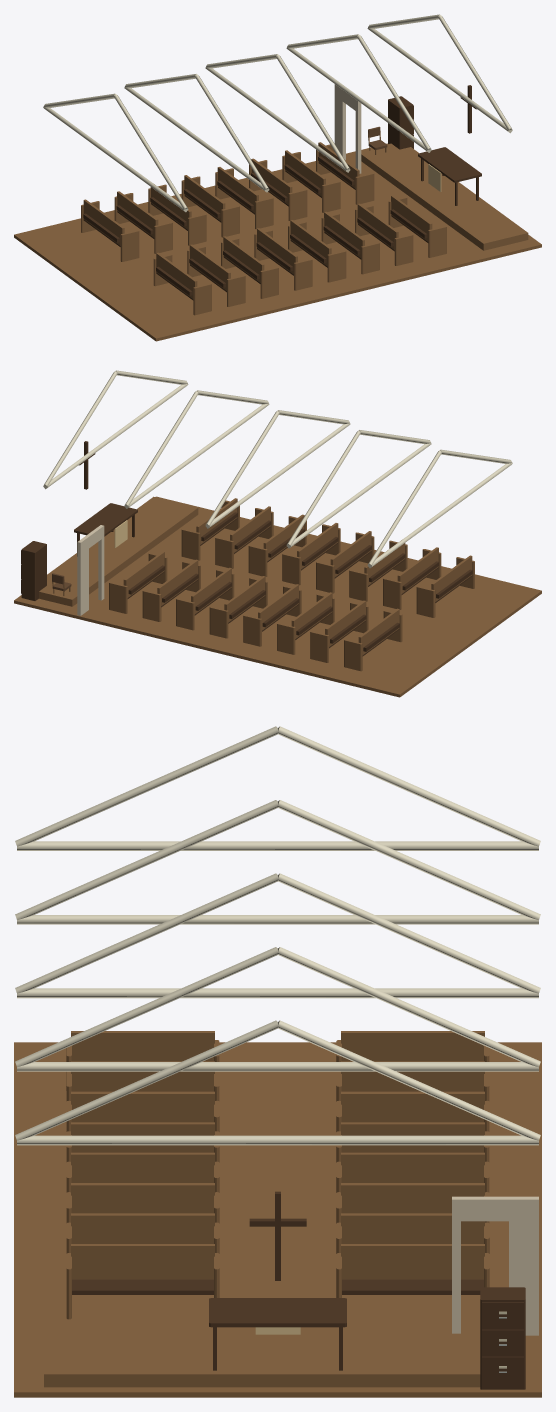
The model's file is SM_Town_Church_Interior.fbx.
The picture shows the model from 3 angles, top to bottom: view 1: azimuth 30°, elevation 25°; view 2: azimuth 150°, elevation 25°; view 3: azimuth 270°, elevation 25°; orthographic projection. The views are drawn at different scales.
Visible parts, largest first — view 1: SM_Town_Church_Interior; view 2: SM_Town_Church_Interior; view 3: SM_Town_Church_Interior.
Boxes of the visible parts, box(x1,y1,x2,y2) form: SM_Town_Church_Interior: box(14, 14, 541, 341); SM_Town_Church_Interior: box(14, 370, 541, 697); SM_Town_Church_Interior: box(14, 726, 541, 1397).
Size of the model in its own units: 13.81 by 8.8 by 6.43.
